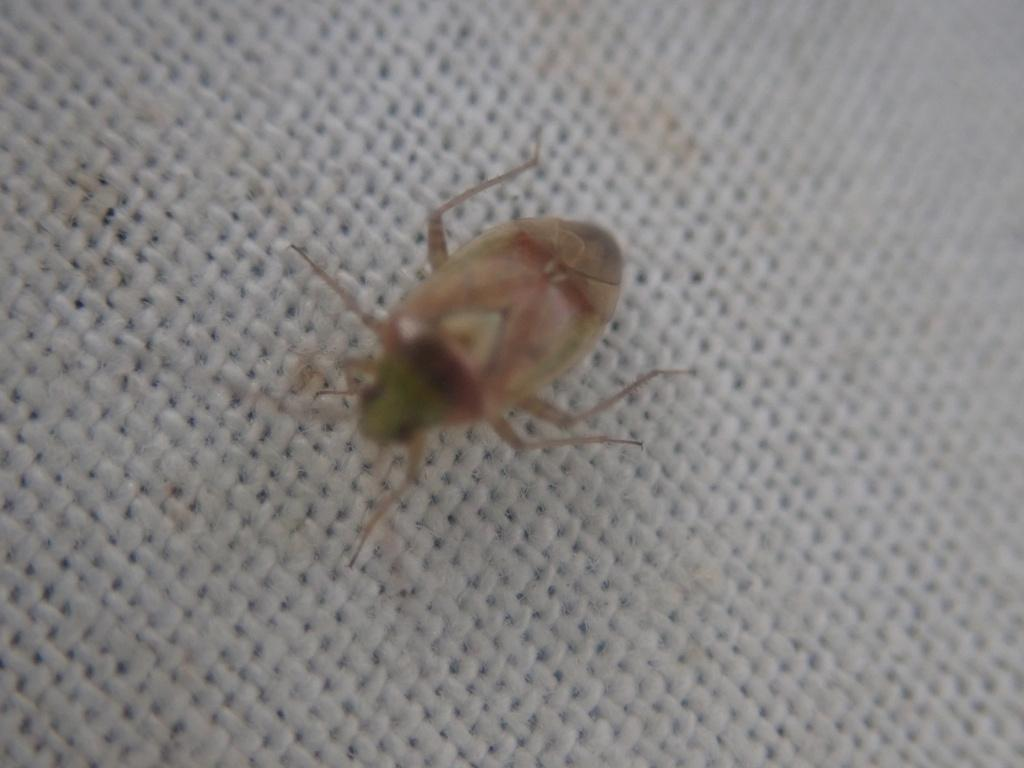plant_bugs: (188, 49, 773, 627)
